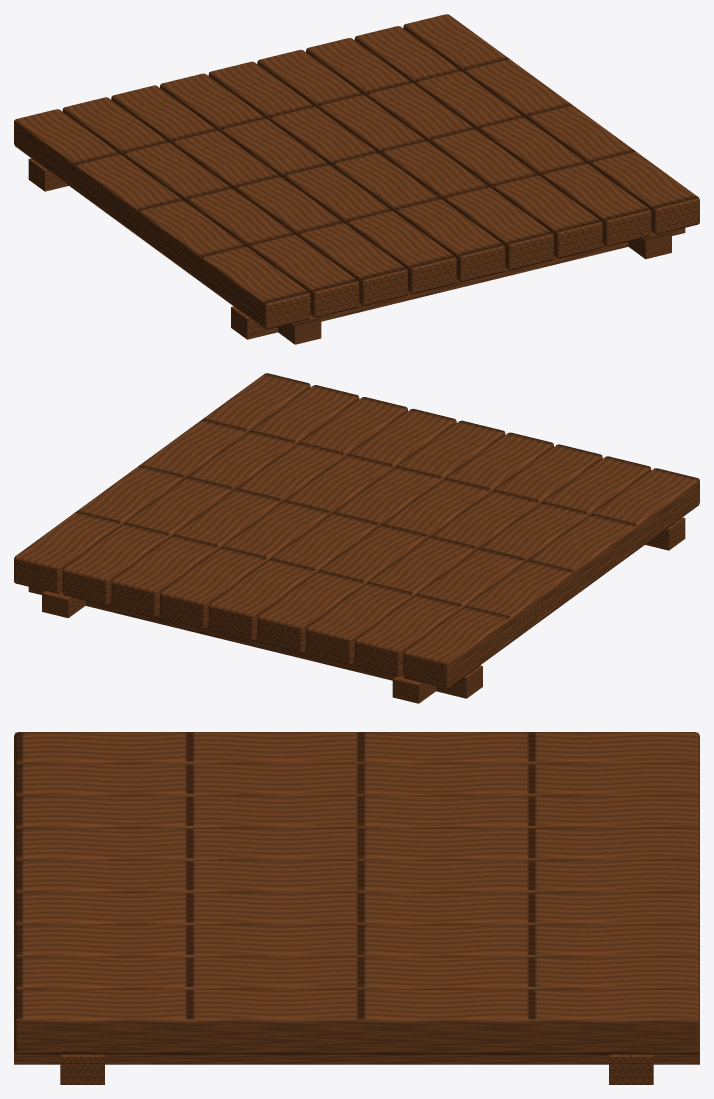
File: modular-survival-base-builder-plank-floor-c5a6926b__24141.glb
3 renders of one model, top to bottom at view 1: azimuth 30°, elevation 25°; view 2: azimuth 150°, elevation 25°; view 3: azimuth 270°, elevation 25°, orthographic. The views are drawn at different scales.
Parts seen in each view (by area): view 1: plank-floor; view 2: plank-floor; view 3: plank-floor.
Boxes of the visible parts, left/top/right/bottom form: plank-floor: left=14, top=14, right=699, bottom=344; plank-floor: left=14, top=373, right=699, bottom=703; plank-floor: left=14, top=732, right=699, bottom=1084.
Size of the model in its own units: 2 by 0.21 by 2.
Materials: 1 (1 with a texture image).
